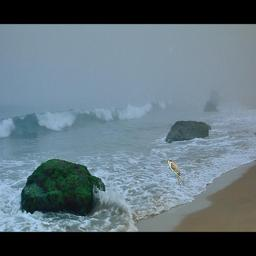Cuckoo: (166, 158, 181, 187)
